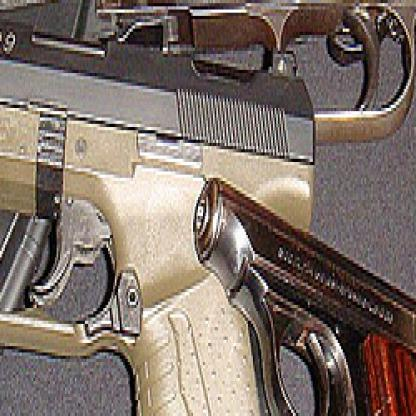gun: (0, 0, 415, 414), (0, 0, 326, 413), (182, 165, 414, 413)
